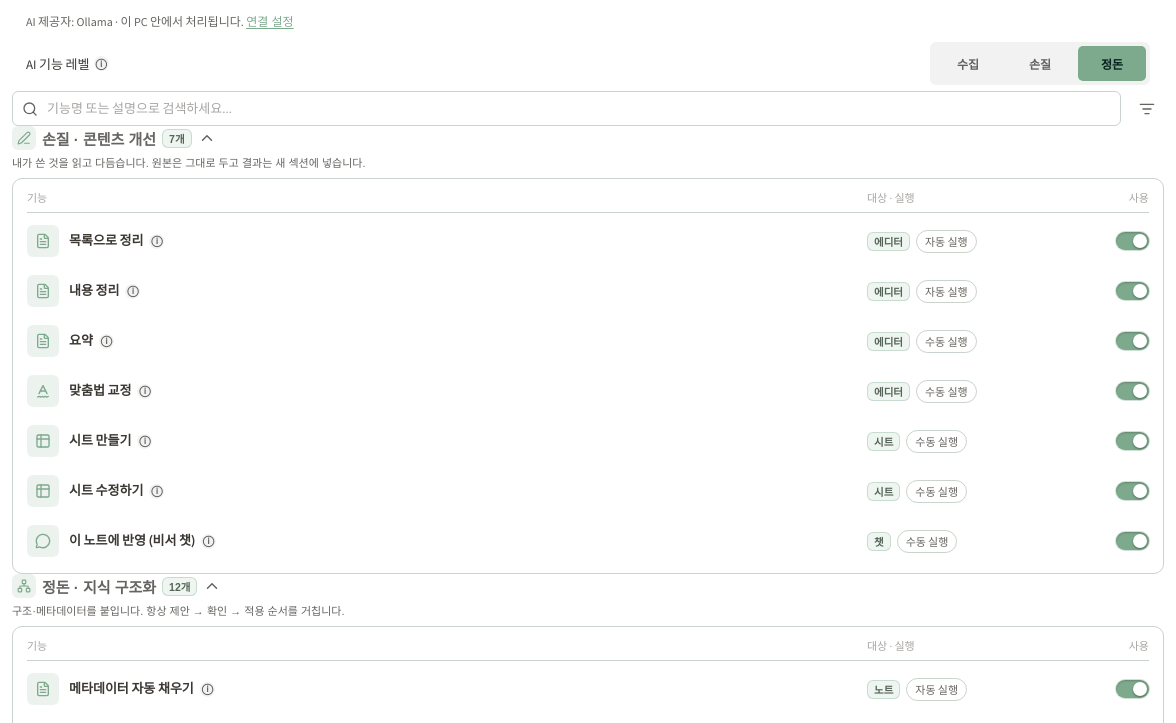
Test: Challenger M4: AiCapabilityCatalog Empirical Adversarial Challenge › 3. Accordion Cards Collapse / Expand Stress Test › 3.2 collapsing a tier sets aria-expanded to false and hides its subcard container
The width and height of the screenshot is (1176, 723).
// Collapse refine
Click the button with test id "ai-capability-tier-header-refine". click: (99, 139)
box: top-left (12, 126), bottom-right (1164, 170)
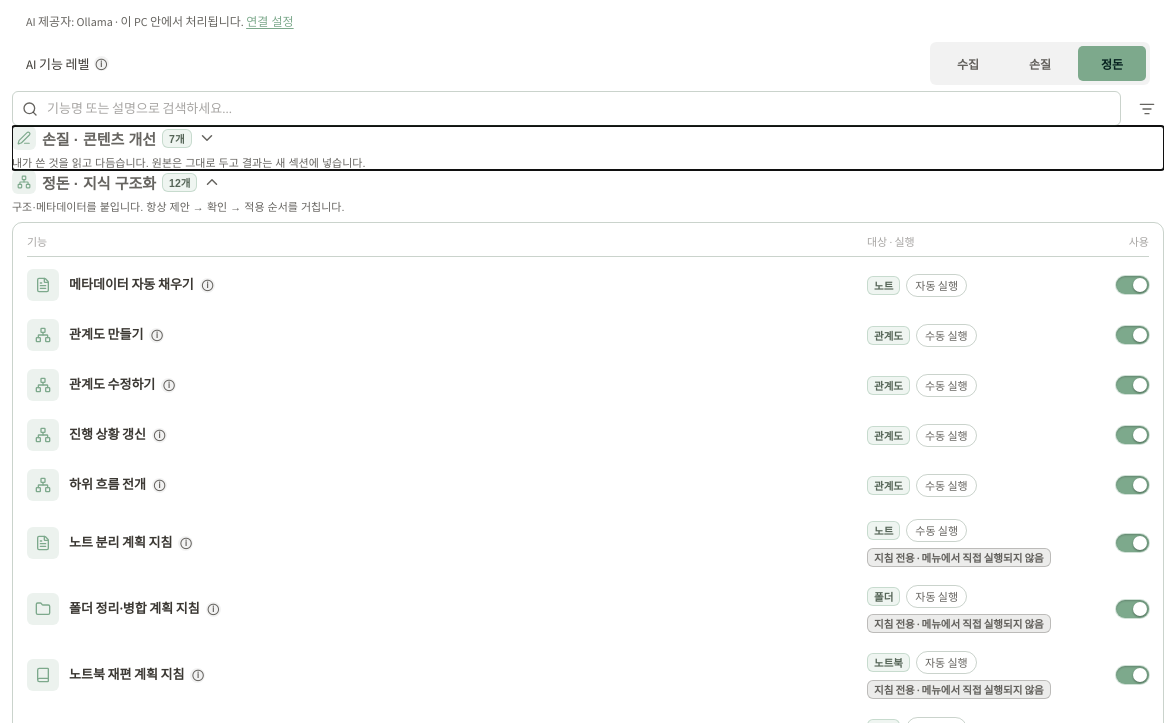
Expected: the button with test id "ai-capability-tier-header-refine" is collapsed, top-left (12, 126), bottom-right (1164, 170)
